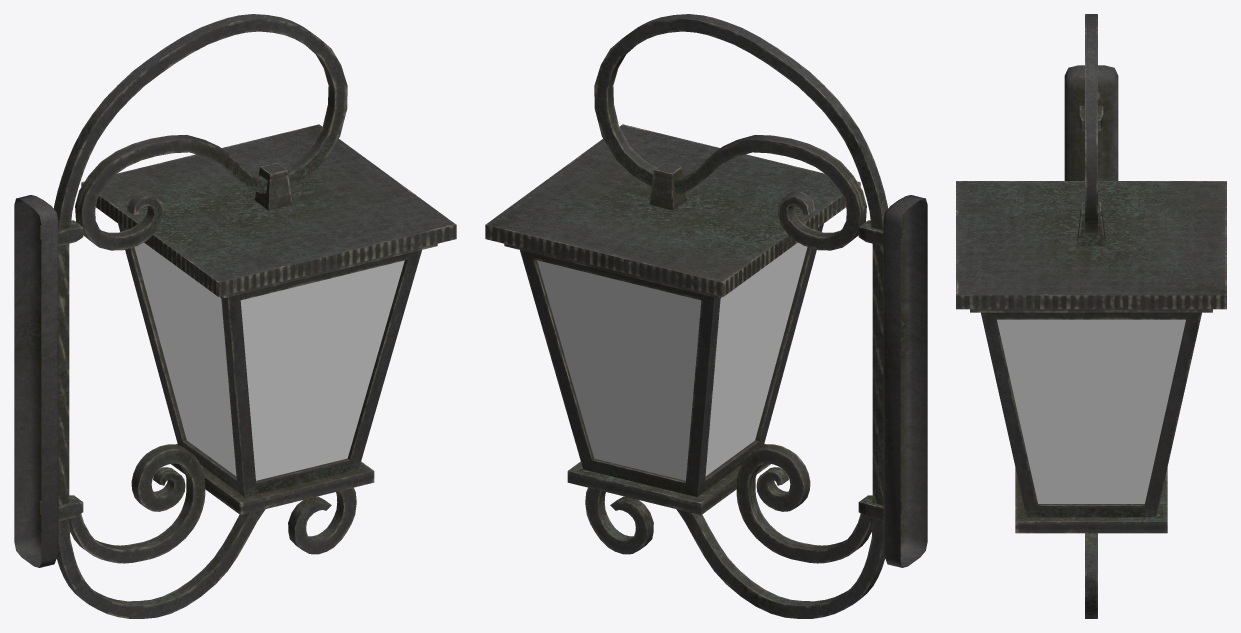
File: SM_street_lamp_02.fbx
3 renders of one model, left to right at view 1: azimuth 30°, elevation 25°; view 2: azimuth 150°, elevation 25°; view 3: azimuth 270°, elevation 25°, orthographic.
Parts seen in each view (by area): view 1: SM_street_lamp_02_LOD0; view 2: SM_street_lamp_02_LOD0; view 3: SM_street_lamp_02_LOD0.
Part boxes in pixels (box(x1,y1,x2,y2)): SM_street_lamp_02_LOD0: box(14, 14, 456, 618); SM_street_lamp_02_LOD0: box(485, 14, 927, 618); SM_street_lamp_02_LOD0: box(956, 14, 1226, 618).
Bounding box in the file's own units: 55.4 × 36.62 × 84.66.
Materials: 3 (1 with a texture image).
